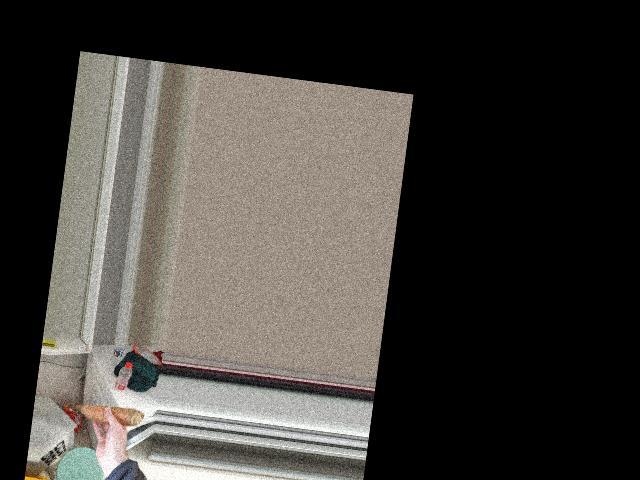sweet_potato: (76, 402, 138, 428)
